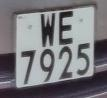2: (56, 46, 75, 82)
5: (74, 40, 92, 79)
7: (18, 47, 39, 88)
9: (37, 46, 58, 86)
E: (55, 7, 78, 47)
W: (36, 9, 60, 52)
